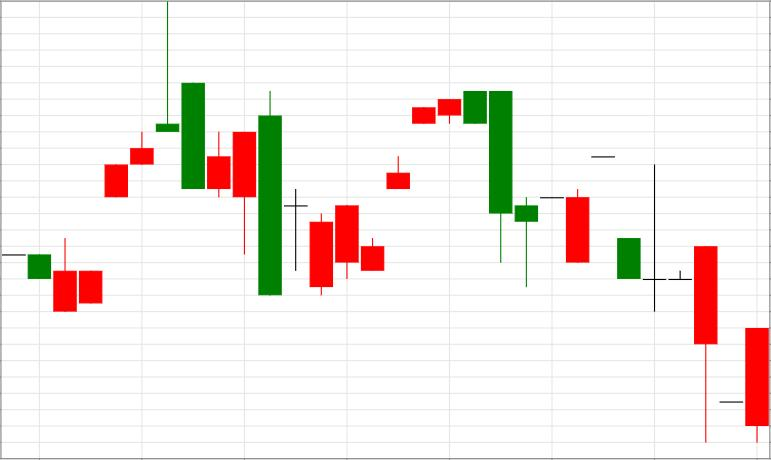bearish_engulfing_fall: (361, 91, 487, 272)
